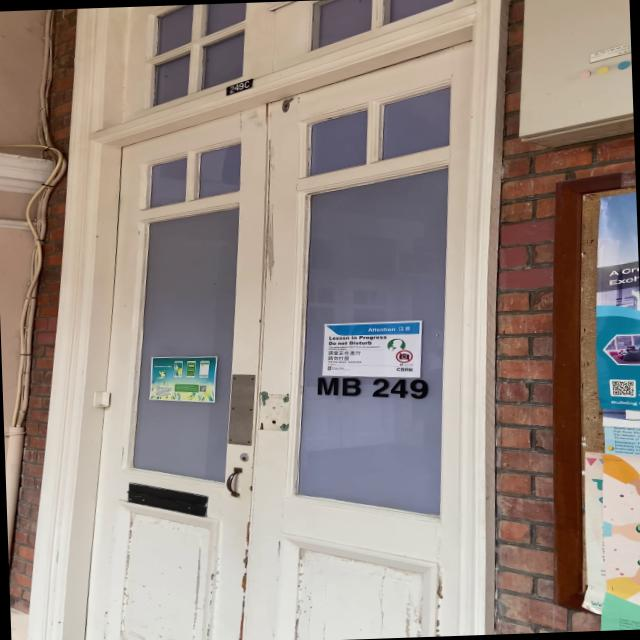room249c: (211, 78, 259, 99)
room249cWindow: (313, 369, 428, 404)
